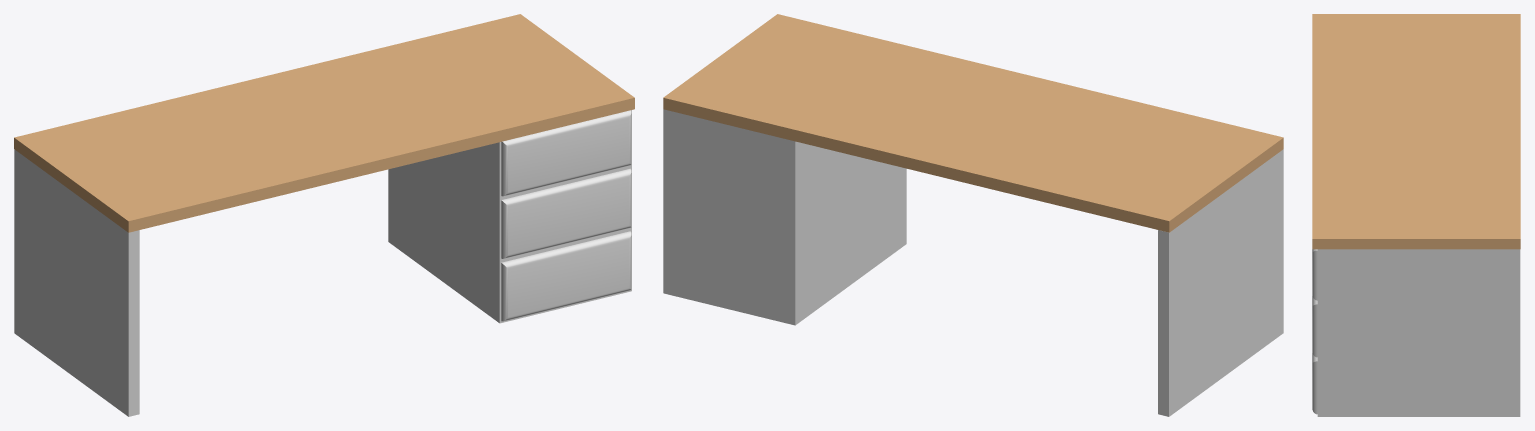
3 renders of one model, left to right at view 1: azimuth 30°, elevation 25°; view 2: azimuth 150°, elevation 25°; view 3: azimuth 270°, elevation 25°, orthographic. The views are drawn at different scales.
Visible parts, largest first — view 1: desk plate, drawers, Cube.003; view 2: desk plate, drawers, Cube.003; view 3: desk plate, drawers.
Boxes of the visible parts, left/top/right/bottom form: desk plate: left=14, top=14, right=634, bottom=232; drawers: left=388, top=110, right=631, bottom=323; Cube.003: left=14, top=149, right=139, bottom=416; desk plate: left=663, top=14, right=1283, bottom=232; drawers: left=663, top=109, right=906, bottom=325; Cube.003: left=1158, top=149, right=1283, bottom=416; desk plate: left=1312, top=14, right=1520, bottom=249; drawers: left=1312, top=249, right=1520, bottom=416.
Size of the model in its own units: 2.3 by 0.8498 by 0.9011.
